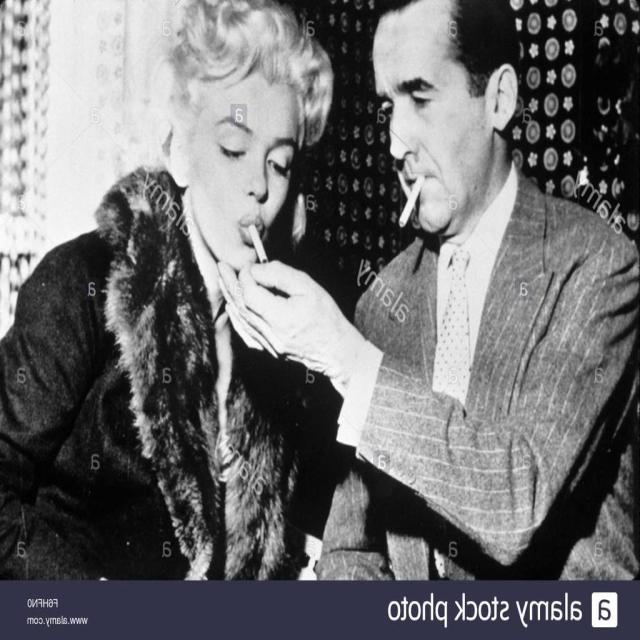smoking: (173, 25, 309, 326), (377, 0, 522, 249)
